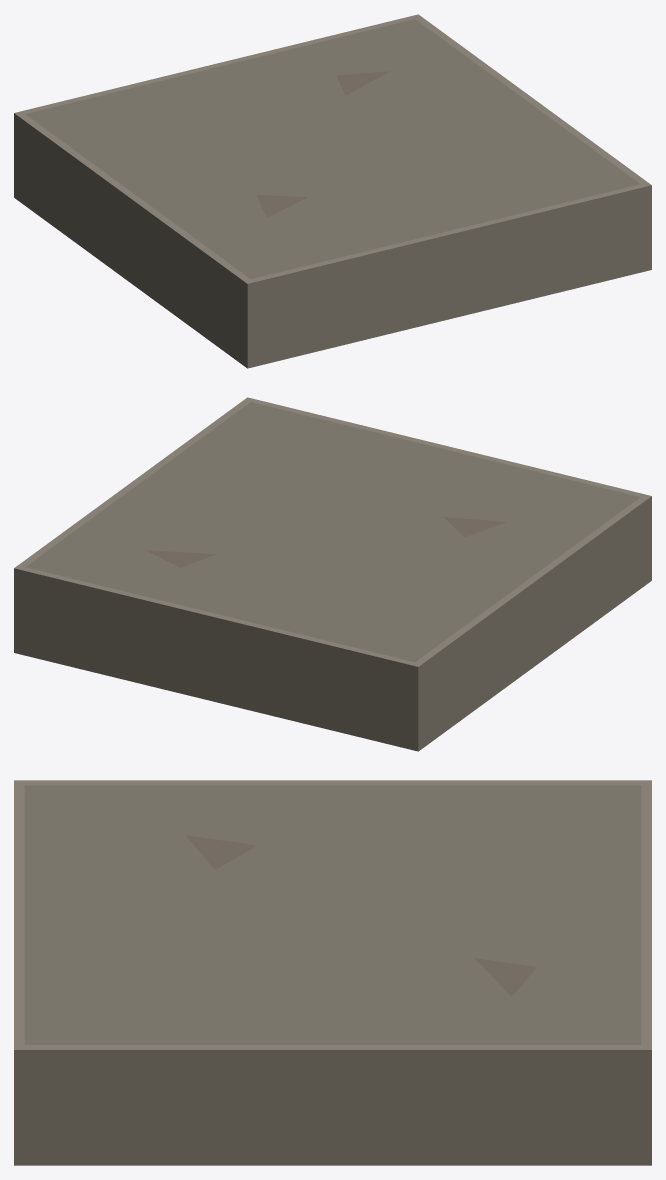
The model's file is ConcrateSlabs_A_4_2.fbx.
3 renders of one model, top to bottom at view 1: azimuth 30°, elevation 25°; view 2: azimuth 150°, elevation 25°; view 3: azimuth 270°, elevation 25°, orthographic. The views are drawn at different scales.
Visible parts, largest first — view 1: ConcrateSlabs_A_4_2; view 2: ConcrateSlabs_A_4_2; view 3: ConcrateSlabs_A_4_2.
Part boxes in pixels (left/top/right/bottom): ConcrateSlabs_A_4_2: left=14, top=14, right=651, bottom=368; ConcrateSlabs_A_4_2: left=14, top=397, right=651, bottom=751; ConcrateSlabs_A_4_2: left=14, top=780, right=651, bottom=1165.
Bounding box in the file's own units: 200 × 40 × 200.
